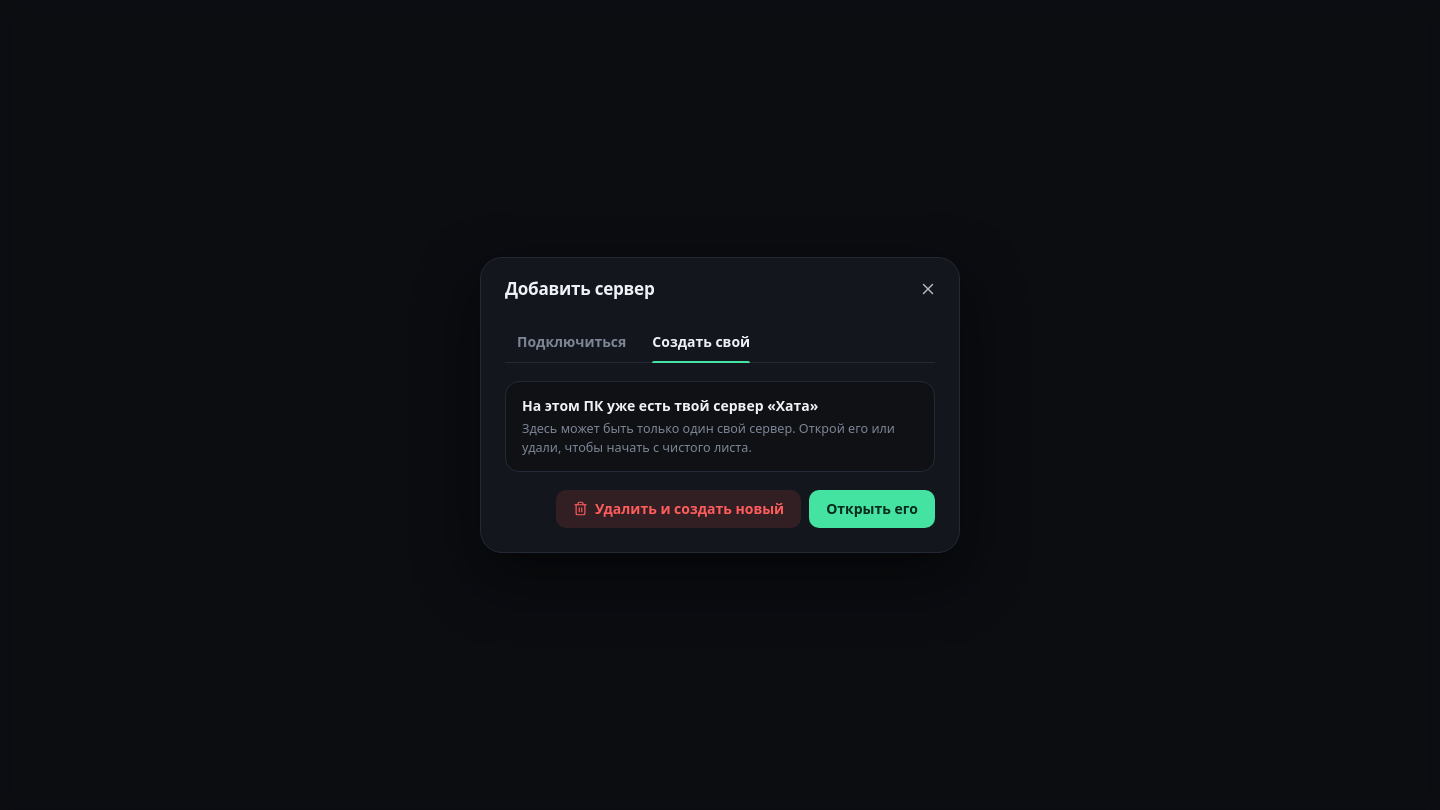
Scenario: a server already on this PC › can be deleted to make a new one; the name has to be typed first
Click the button "Удалить и создать новый".
click(679, 509)  # box [556, 490, 801, 528]
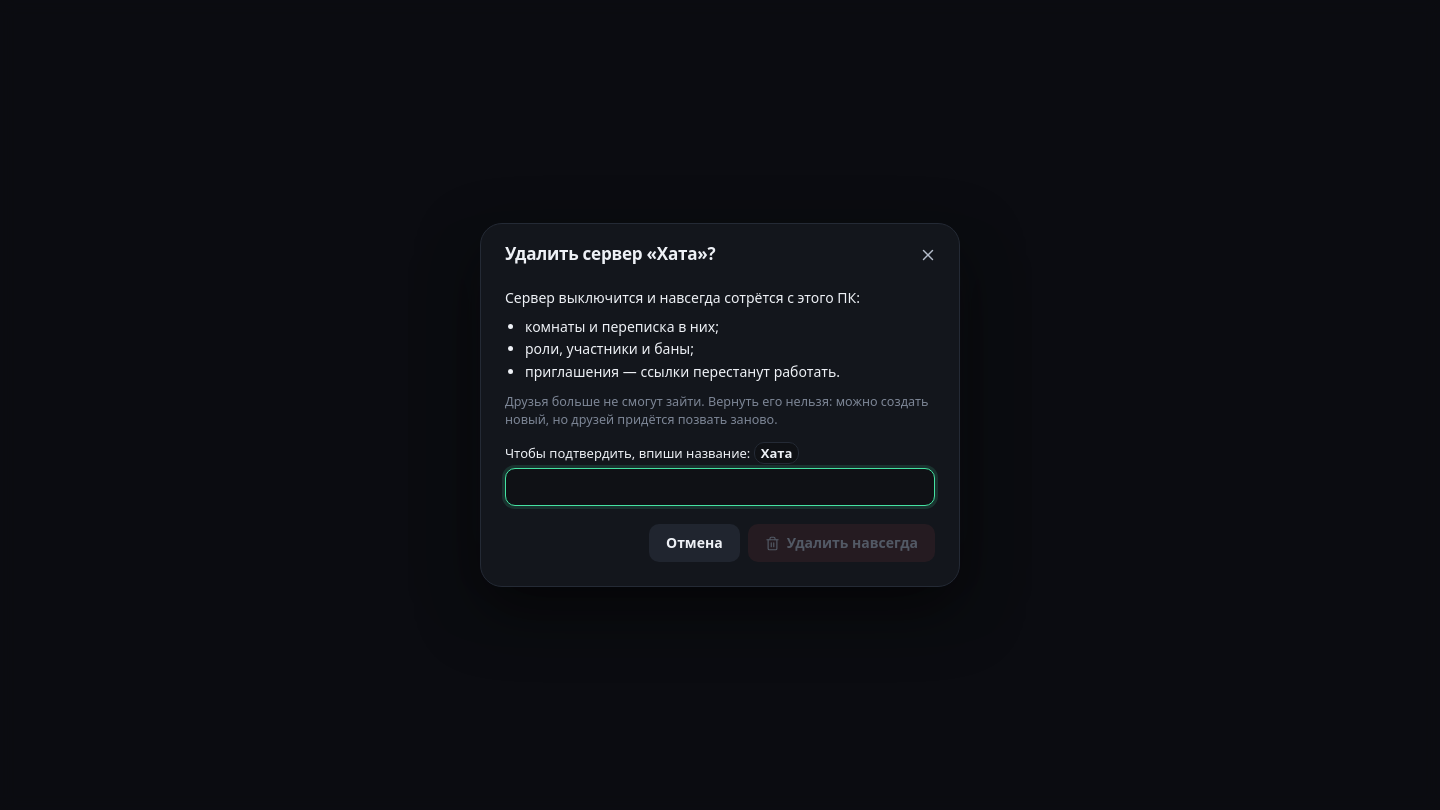
Expected: the button "Удалить навсегда" is disabled, [748, 524, 935, 562]
Type "хата " into the field labelled "Чтобы подтвердить, впиши название: Хата".
click(720, 487); type("хата ")  # box [505, 468, 935, 506]
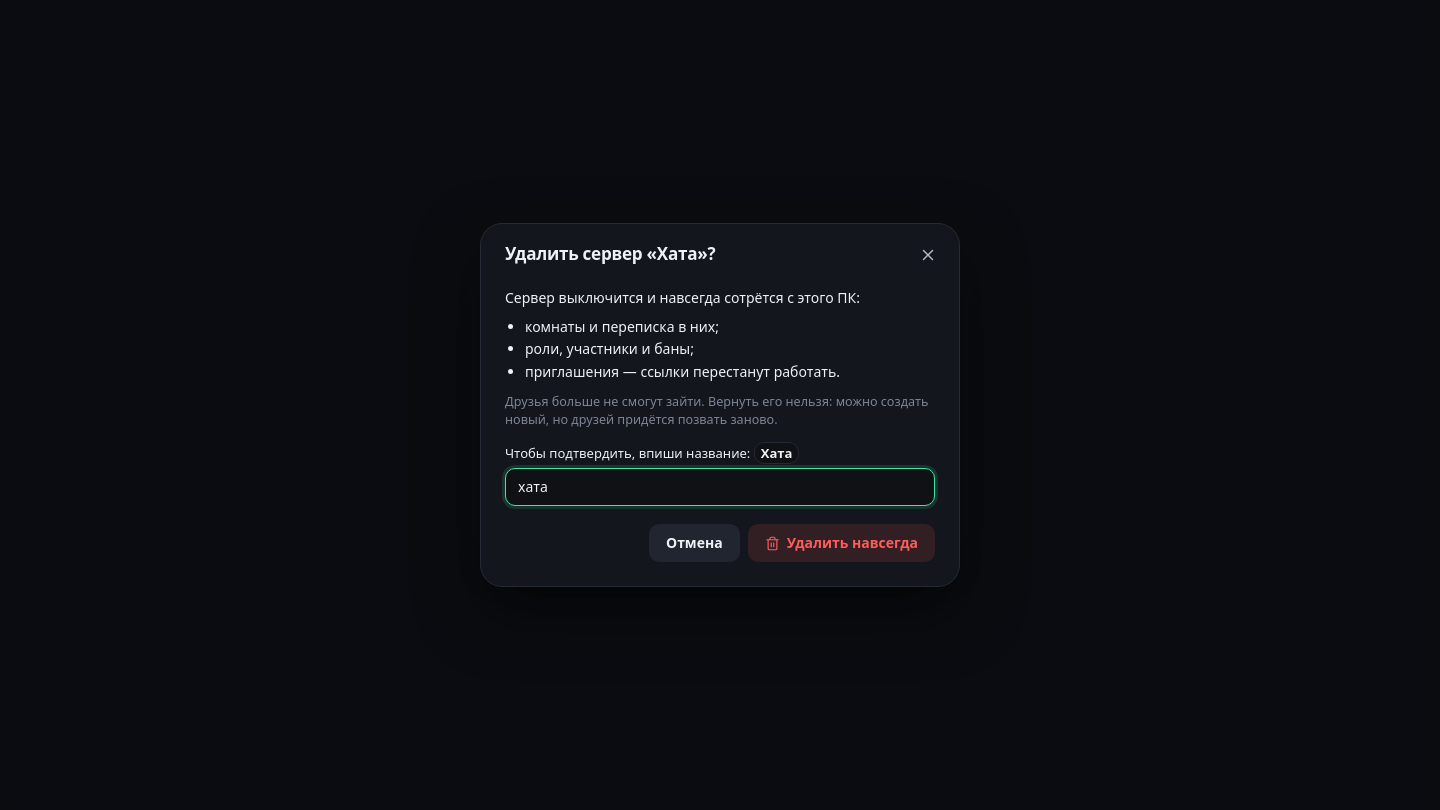
Expected: the button "Удалить навсегда" is enabled
Click the button "Удалить навсегда".
click(841, 543)  # box [748, 524, 935, 562]
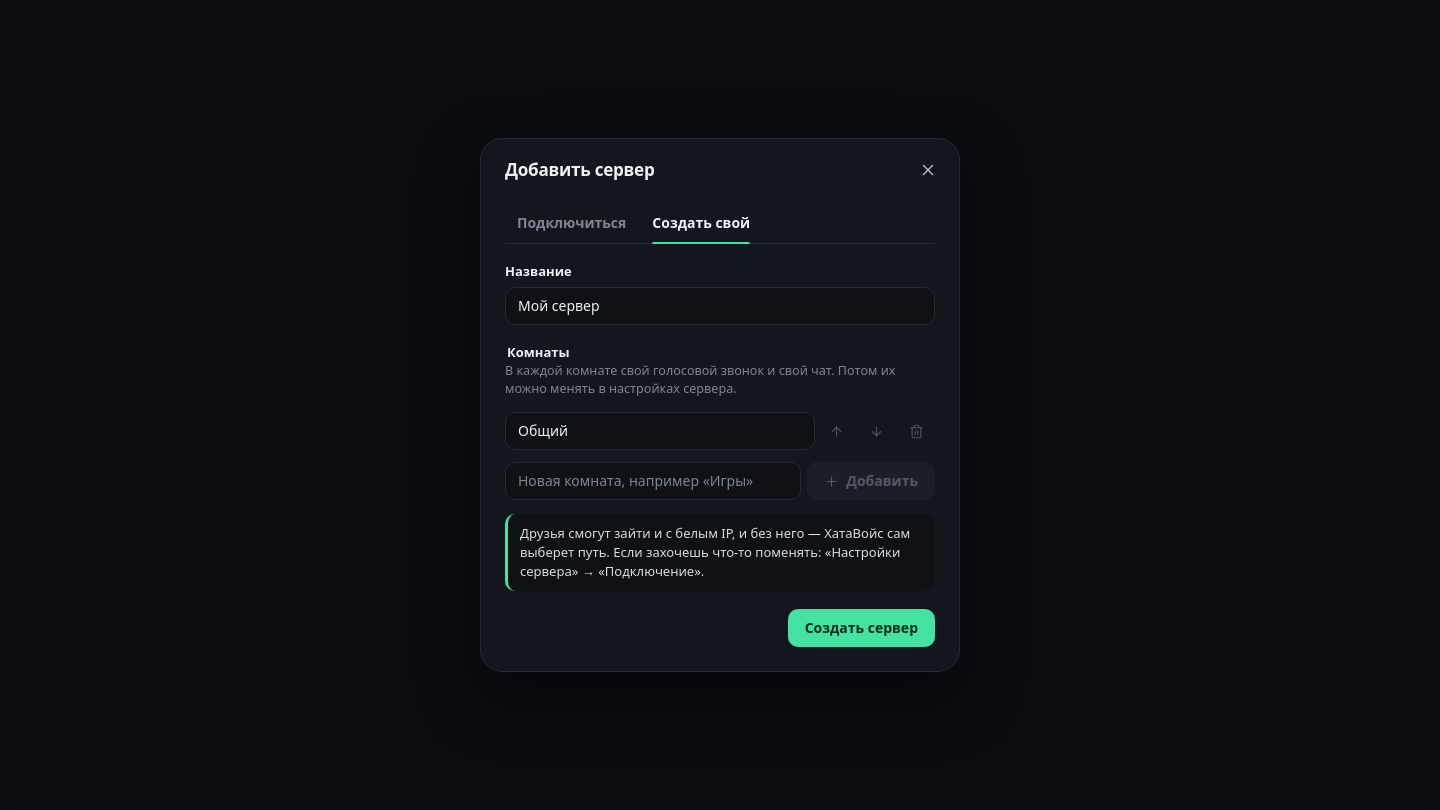
Expected: the field named "Комната 1" is shown, [505, 412, 815, 450]
